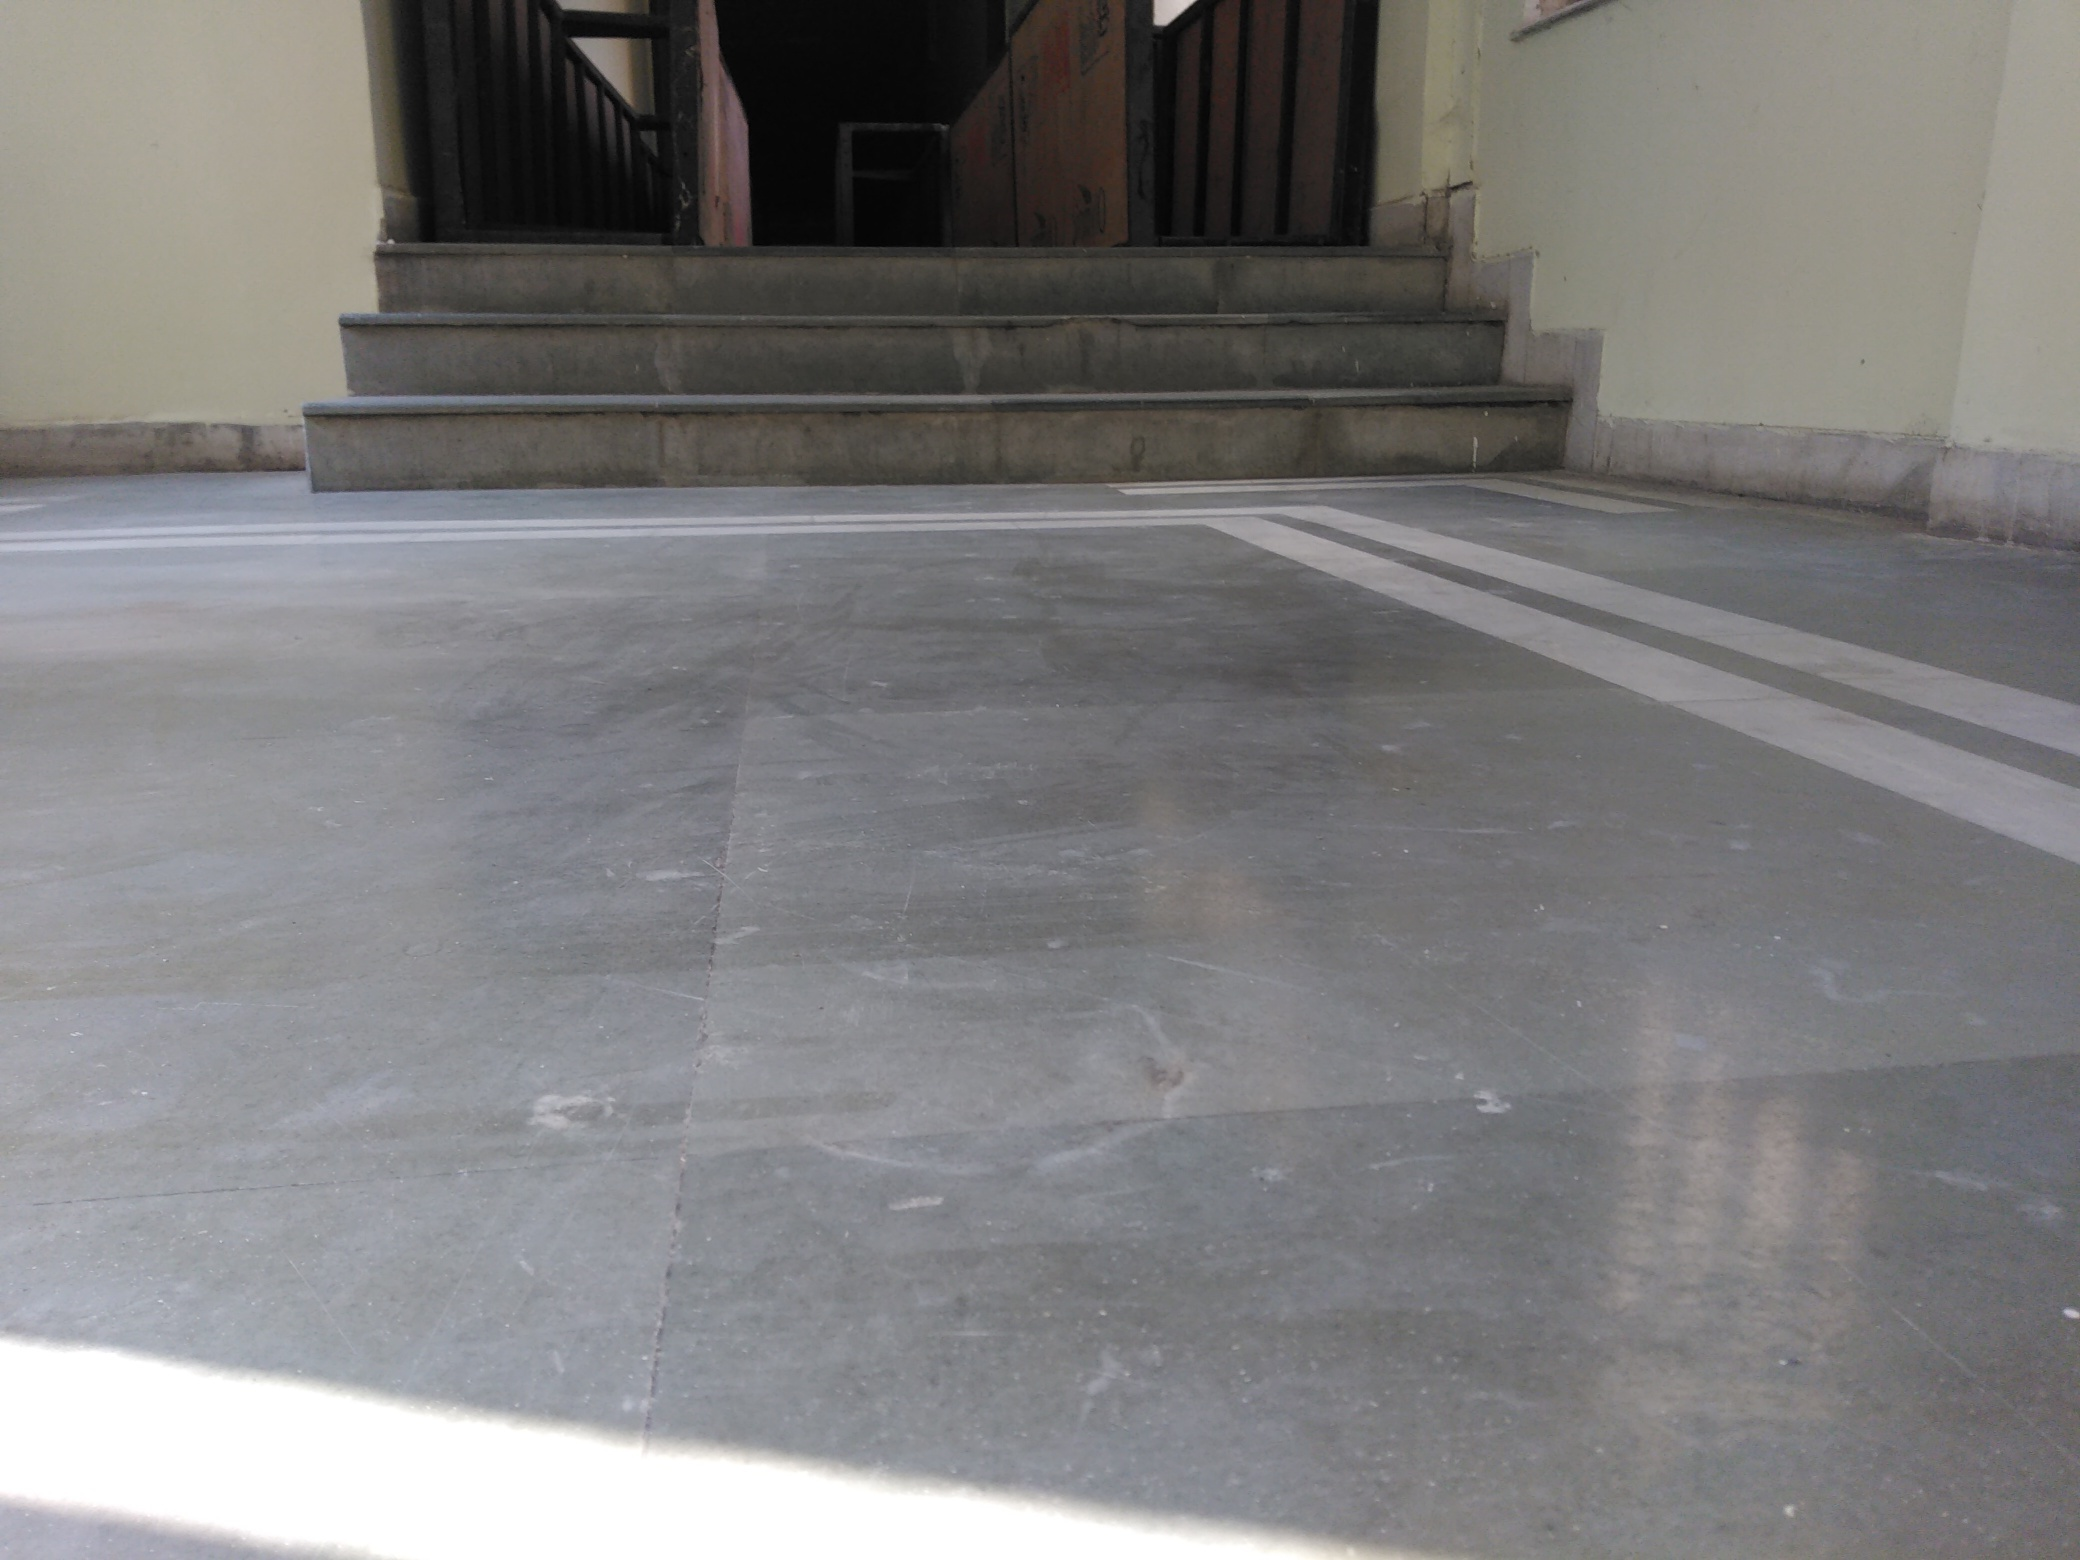stairs_up: (318, 236, 1566, 482)
